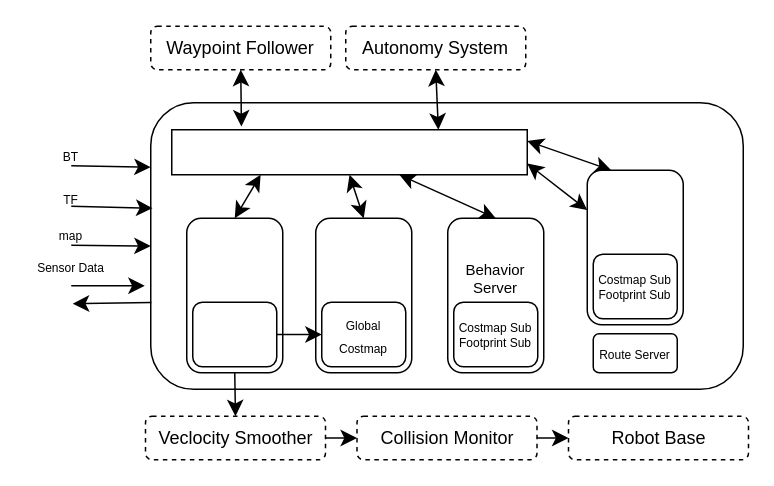
The diagram is 774 pixels wide and 486 high, and some of its shapes have lost their labels. The box of each missing label's shape, as (x1, y1, x2, y2) in pixels:
BT Navigator Server: (170, 128, 527, 175)
Controller Server: (185, 217, 283, 373)
Local costmap: (191, 301, 277, 367)
Planner Server: (314, 217, 412, 373)
Smoother Server: (586, 169, 683, 325)
